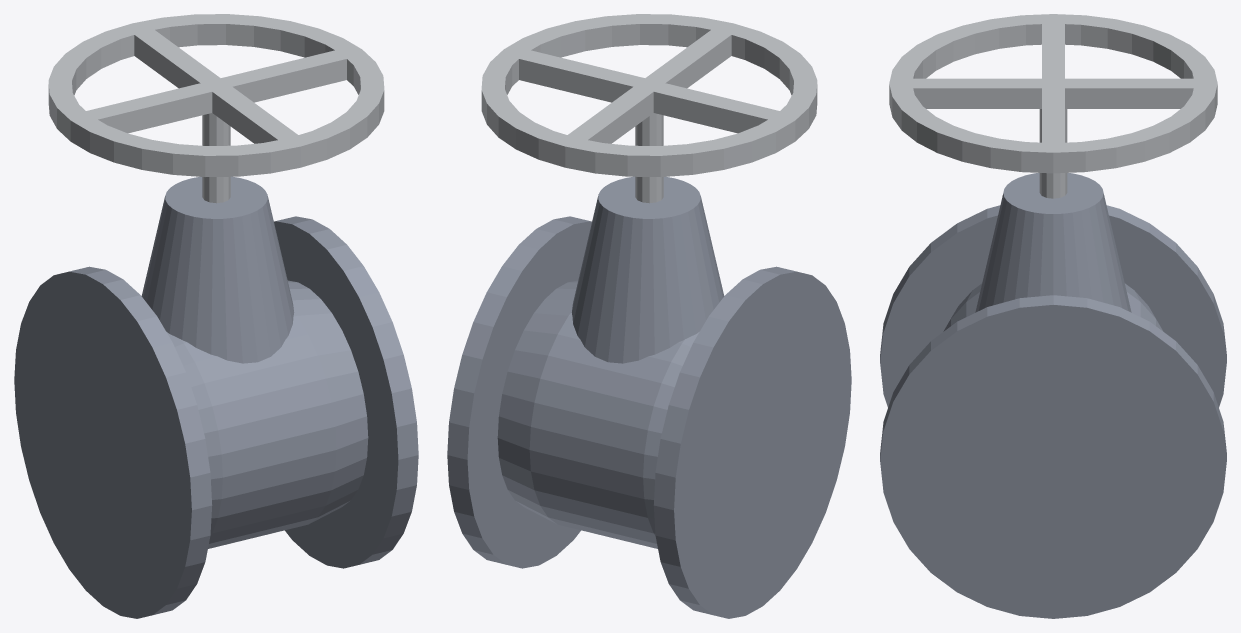
3 views of the same model, side by side, from view 1: azimuth 30°, elevation 25°; view 2: azimuth 150°, elevation 25°; view 3: azimuth 270°, elevation 25° (orthographic). The views are drawn at different scales.
Visible parts, largest first — view 1: agua_valvula__compuerta__cuerpo, agua_valvula__compuerta__accionamiento; view 2: agua_valvula__compuerta__cuerpo, agua_valvula__compuerta__accionamiento; view 3: agua_valvula__compuerta__cuerpo, agua_valvula__compuerta__accionamiento.
Boxes of the visible parts, x1=… form: agua_valvula__compuerta__cuerpo: x1=14, y1=176, x2=418, y2=618; agua_valvula__compuerta__accionamiento: x1=48, y1=14, x2=384, y2=203; agua_valvula__compuerta__cuerpo: x1=447, y1=176, x2=851, y2=618; agua_valvula__compuerta__accionamiento: x1=481, y1=14, x2=817, y2=203; agua_valvula__compuerta__cuerpo: x1=880, y1=173, x2=1226, y2=618; agua_valvula__compuerta__accionamiento: x1=889, y1=14, x2=1217, y2=198.
Bounding box in the file's own units: 0.36 × 0.5825 × 0.38.
